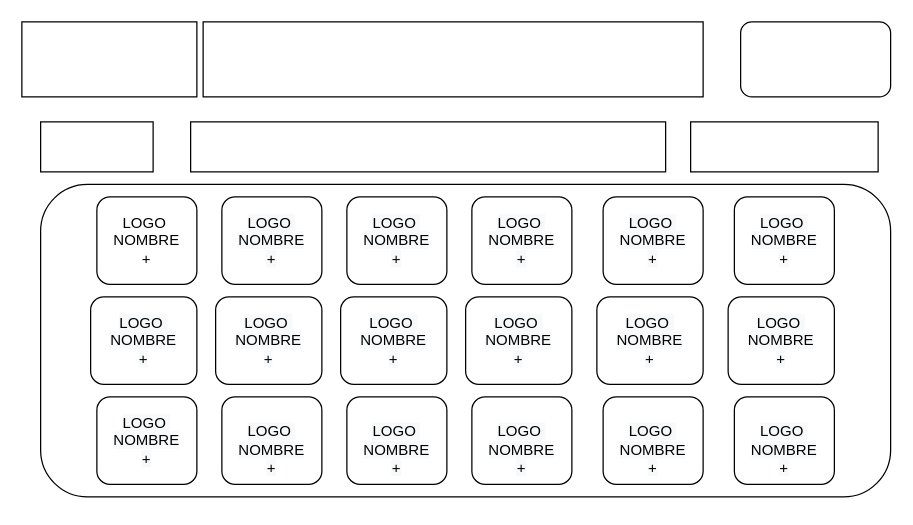
Image size: 913x525. Some labels were removed from this diagram. The shapes that lost their labels are listed below. From the top down, each one's centre as x and y in pixels, then its label:
point 109,59: FACTURAS ELECTRONICAS
point 452,59: LOGO
point 815,59: BUSCADOR POR RUC O NOMBRE
point 96,146: MIS FAVORITOS
point 427,146: A B C D E F G H I J K L M N O P Q .............................Z
point 783,146: VER TODOS
